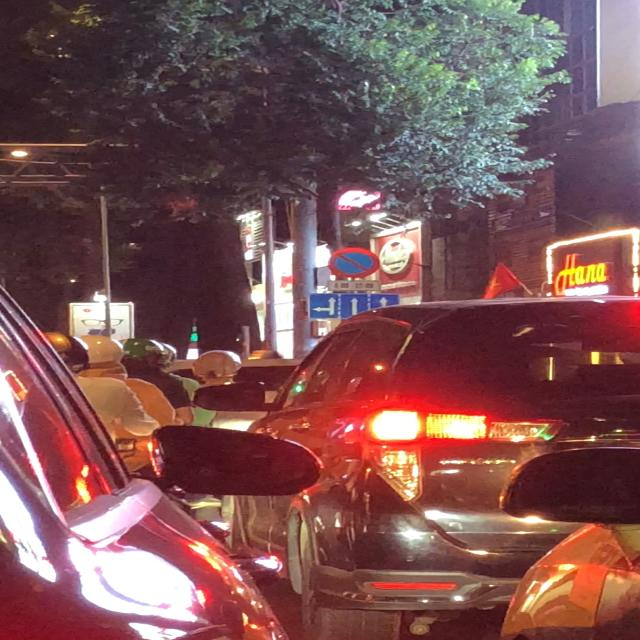Bien bao cam do xe: (326, 246, 382, 279)
